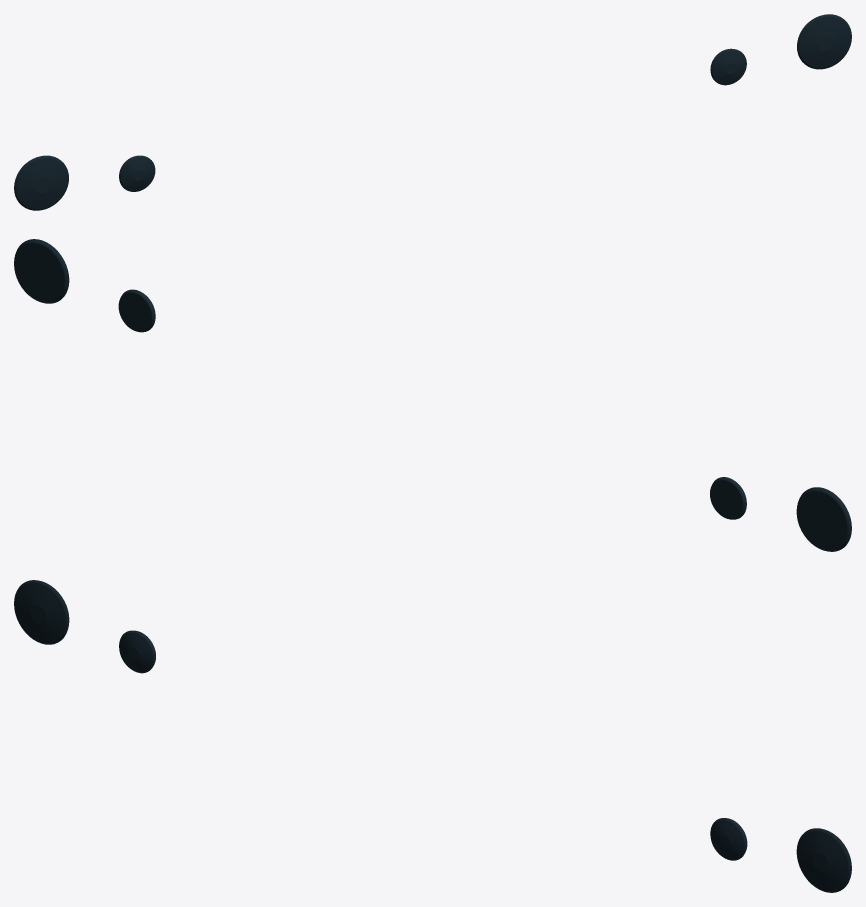
Rendered from car-passat-b7--projector.glb.
3 views of the same model, one above another, from view 1: azimuth 30°, elevation 25°; view 2: azimuth 150°, elevation 25°; view 3: azimuth 330°, elevation 25° (orthographic). The views are drawn at different scales.
Parts seen in each view (by area): view 1: car-passat-b7; view 2: car-passat-b7; view 3: car-passat-b7.
Boxes of the visible parts, x1,y1,x2,y2 form: car-passat-b7: [14, 14, 851, 210]; car-passat-b7: [14, 239, 851, 551]; car-passat-b7: [14, 580, 851, 892].
Bounding box in the file's own units: 1.55 × 0.1025 × 0.1956.
